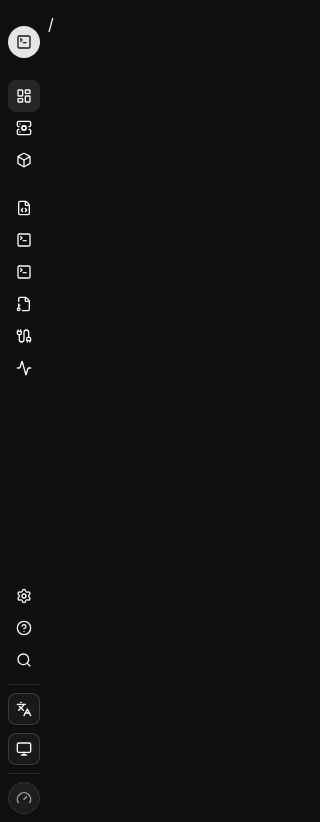
Test: AppSidebar system information navigation › keeps preference and machine actions usable when collapsed
Expected: the button named "Change theme" is shown, [8, 733, 40, 765]
Click the button named "Change interface language".
click(24, 709)  # box [8, 693, 40, 725]
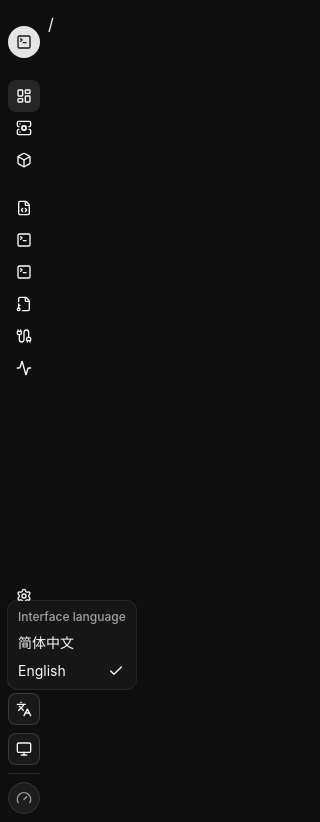
Now the menu is shown, box [8, 601, 136, 689]
Press Escape
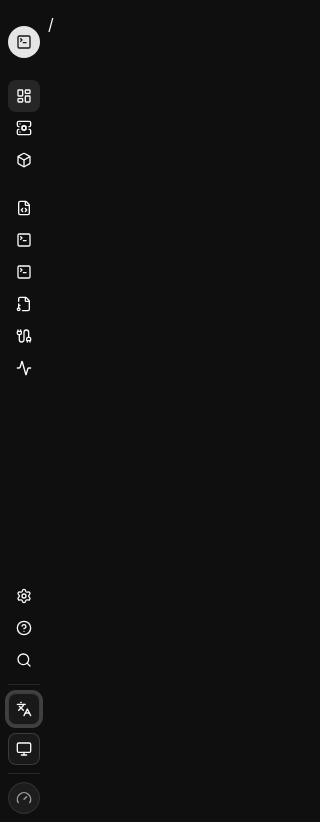
Click the button named "Change theme".
click(24, 749)  # box [8, 733, 40, 765]
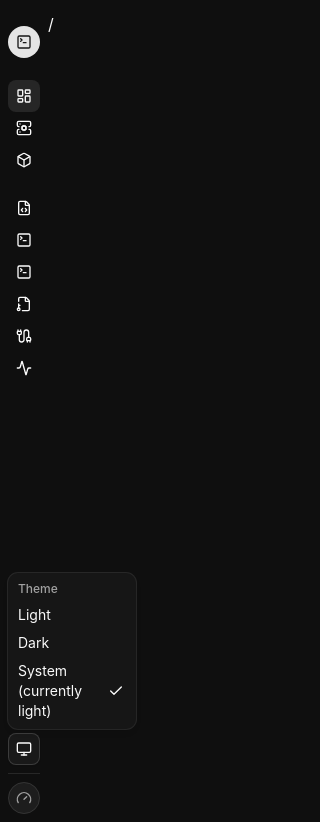
Now the menu is shown, box [8, 573, 136, 729]
Press Escape
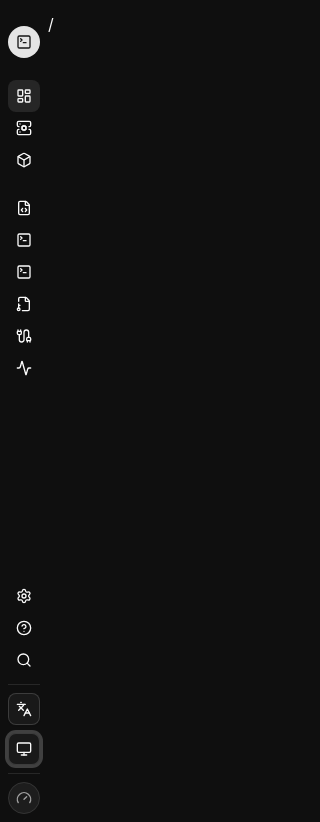
Click the button named "Open machine actions".
click(24, 798)  # box [8, 782, 40, 814]
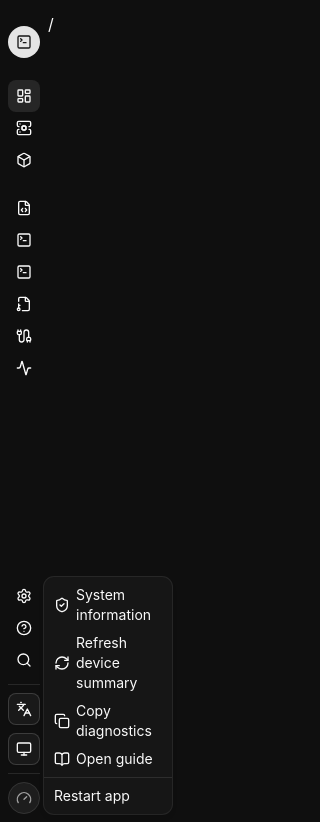
Expected: the text named "current path" reads "/", [48, 14, 54, 34]
Now the menu item "System information" is shown, box [54, 586, 151, 623]
